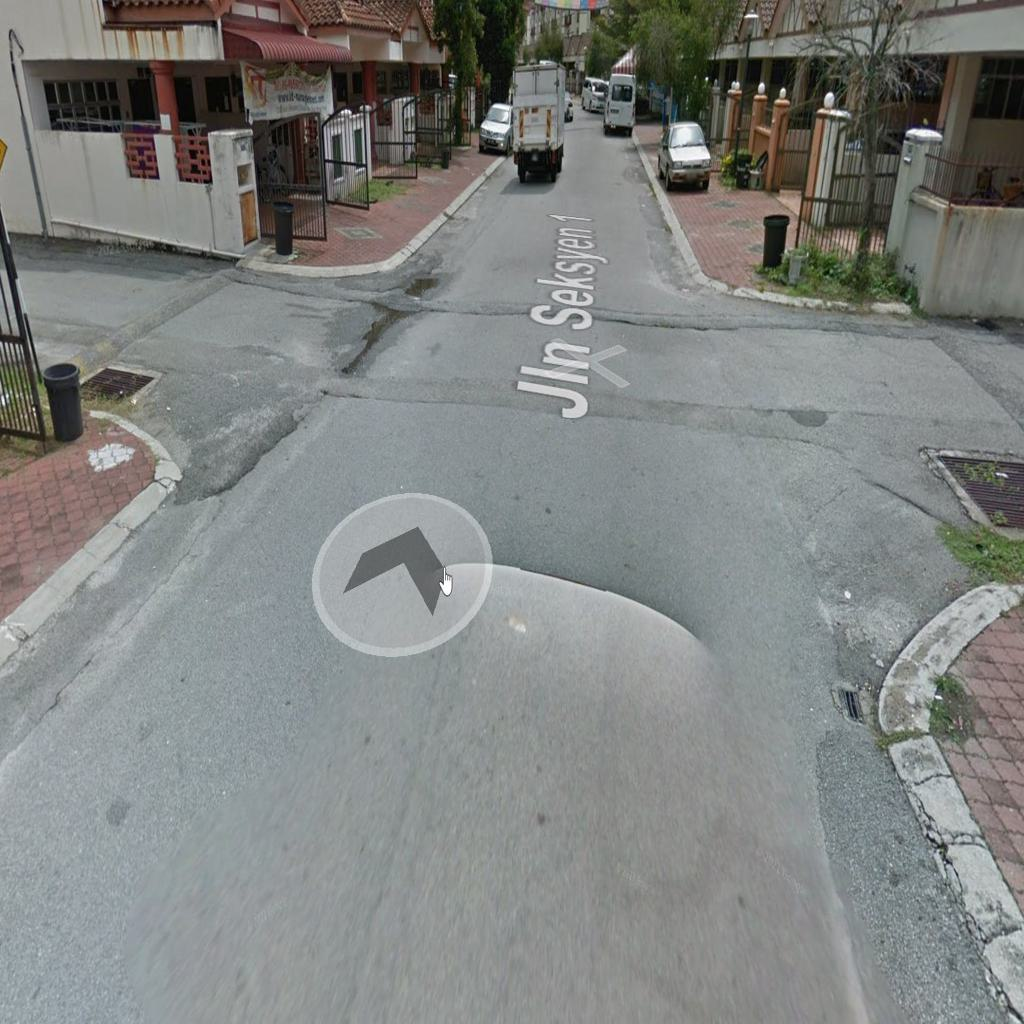Junction: (679, 243, 1020, 699), (14, 226, 429, 544)
